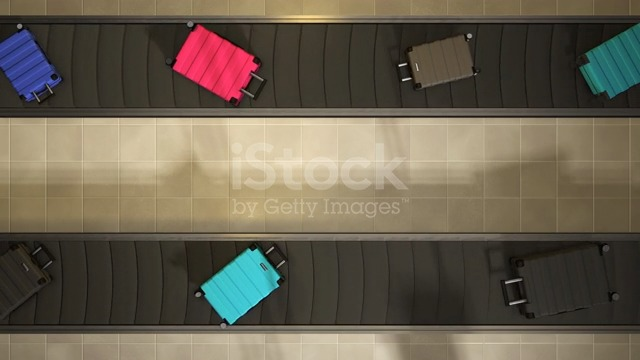Bag: (497, 245, 620, 320), (198, 238, 294, 331), (168, 22, 272, 107), (393, 26, 488, 103), (0, 22, 67, 111), (569, 21, 640, 103), (0, 235, 62, 326)
Handle: (497, 273, 529, 315), (26, 243, 60, 275), (238, 68, 268, 103), (264, 244, 293, 273), (31, 84, 60, 107), (394, 60, 417, 85)
